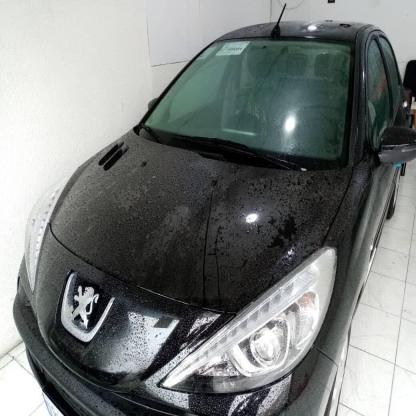Car: (19, 18, 414, 416)
